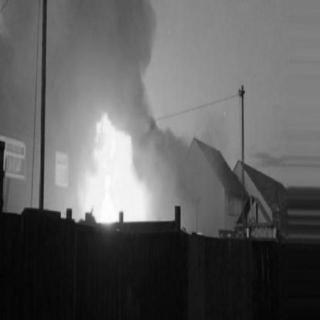Fire: (76, 112, 153, 222)
